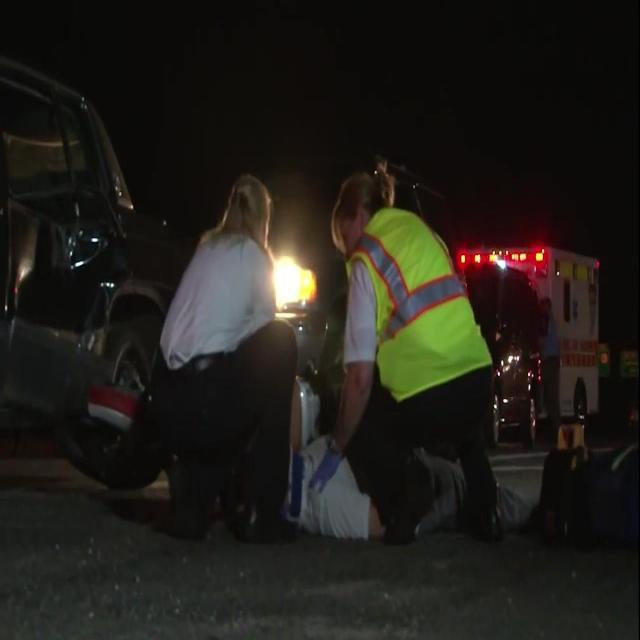reflective_jacket: (332, 203, 503, 417)
